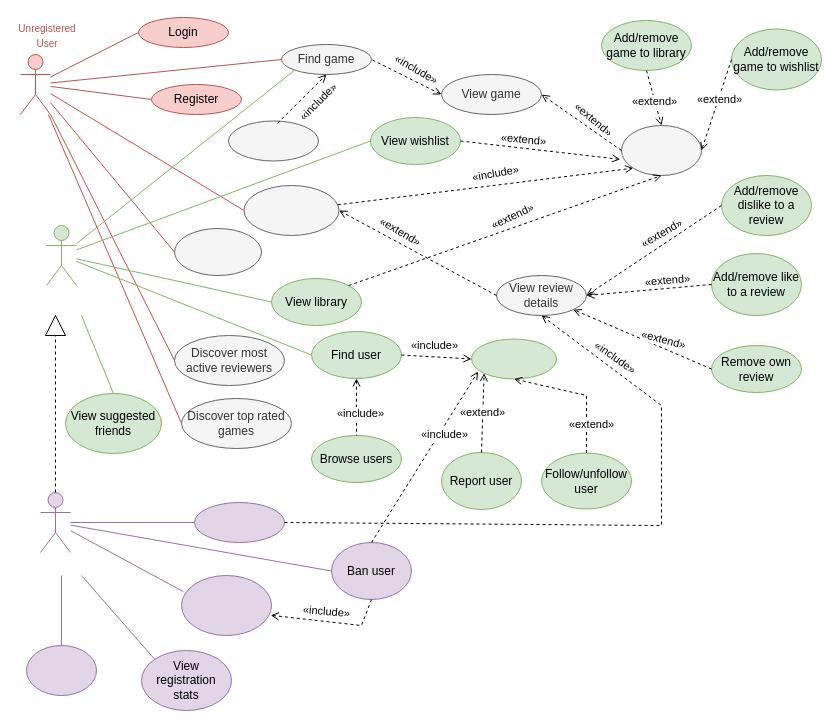
The diagram is 839 pixels wide and 728 high, and some of its shapes have lost their labels. Each missing label, with the box of its shape:
Add game: (26, 644, 96, 696)
Browse games: (228, 120, 318, 161)
Browse reviews excerpts: (243, 184, 339, 236)
Delete review: (194, 502, 284, 542)
Discover games chart: (174, 228, 262, 276)
Moderator: (40, 492, 70, 552)
Registered user: (46, 224, 76, 286)
View games details: (620, 124, 702, 176)
View reports: (180, 574, 272, 636)
View user: (470, 338, 556, 379)
